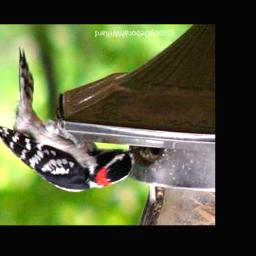Woodpecker: (0, 46, 143, 194)
